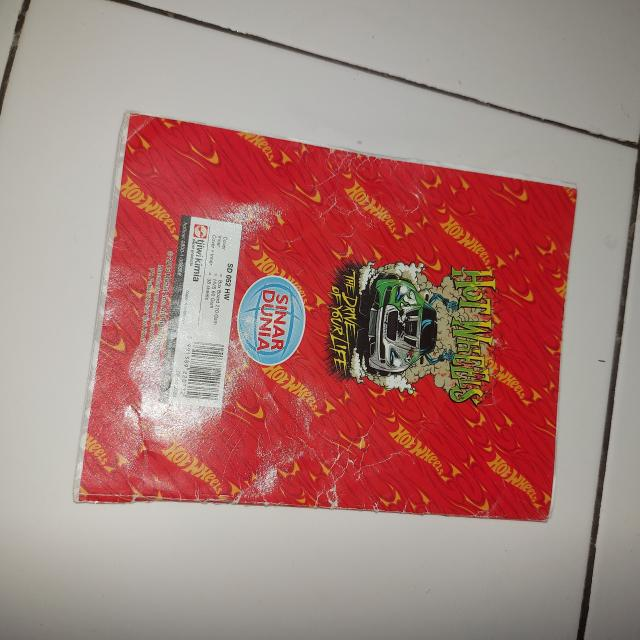Organik: (78, 106, 579, 521)
